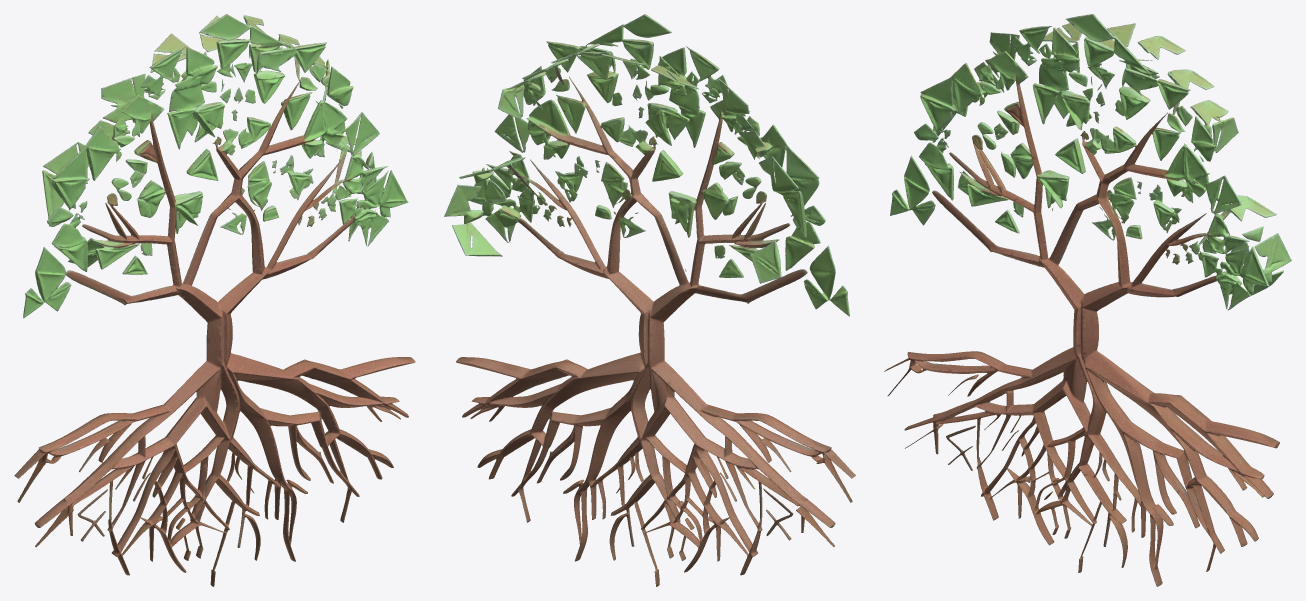
The model's file is root-memory.glb.
The picture shows the model from 3 angles, left to right: view 1: azimuth 30°, elevation 25°; view 2: azimuth 150°, elevation 25°; view 3: azimuth 330°, elevation 25°; orthographic projection.
Bounding box in the file's own units: 1.38 × 1.9 × 0.2179.
Materials: 1 (1 with a texture image).
